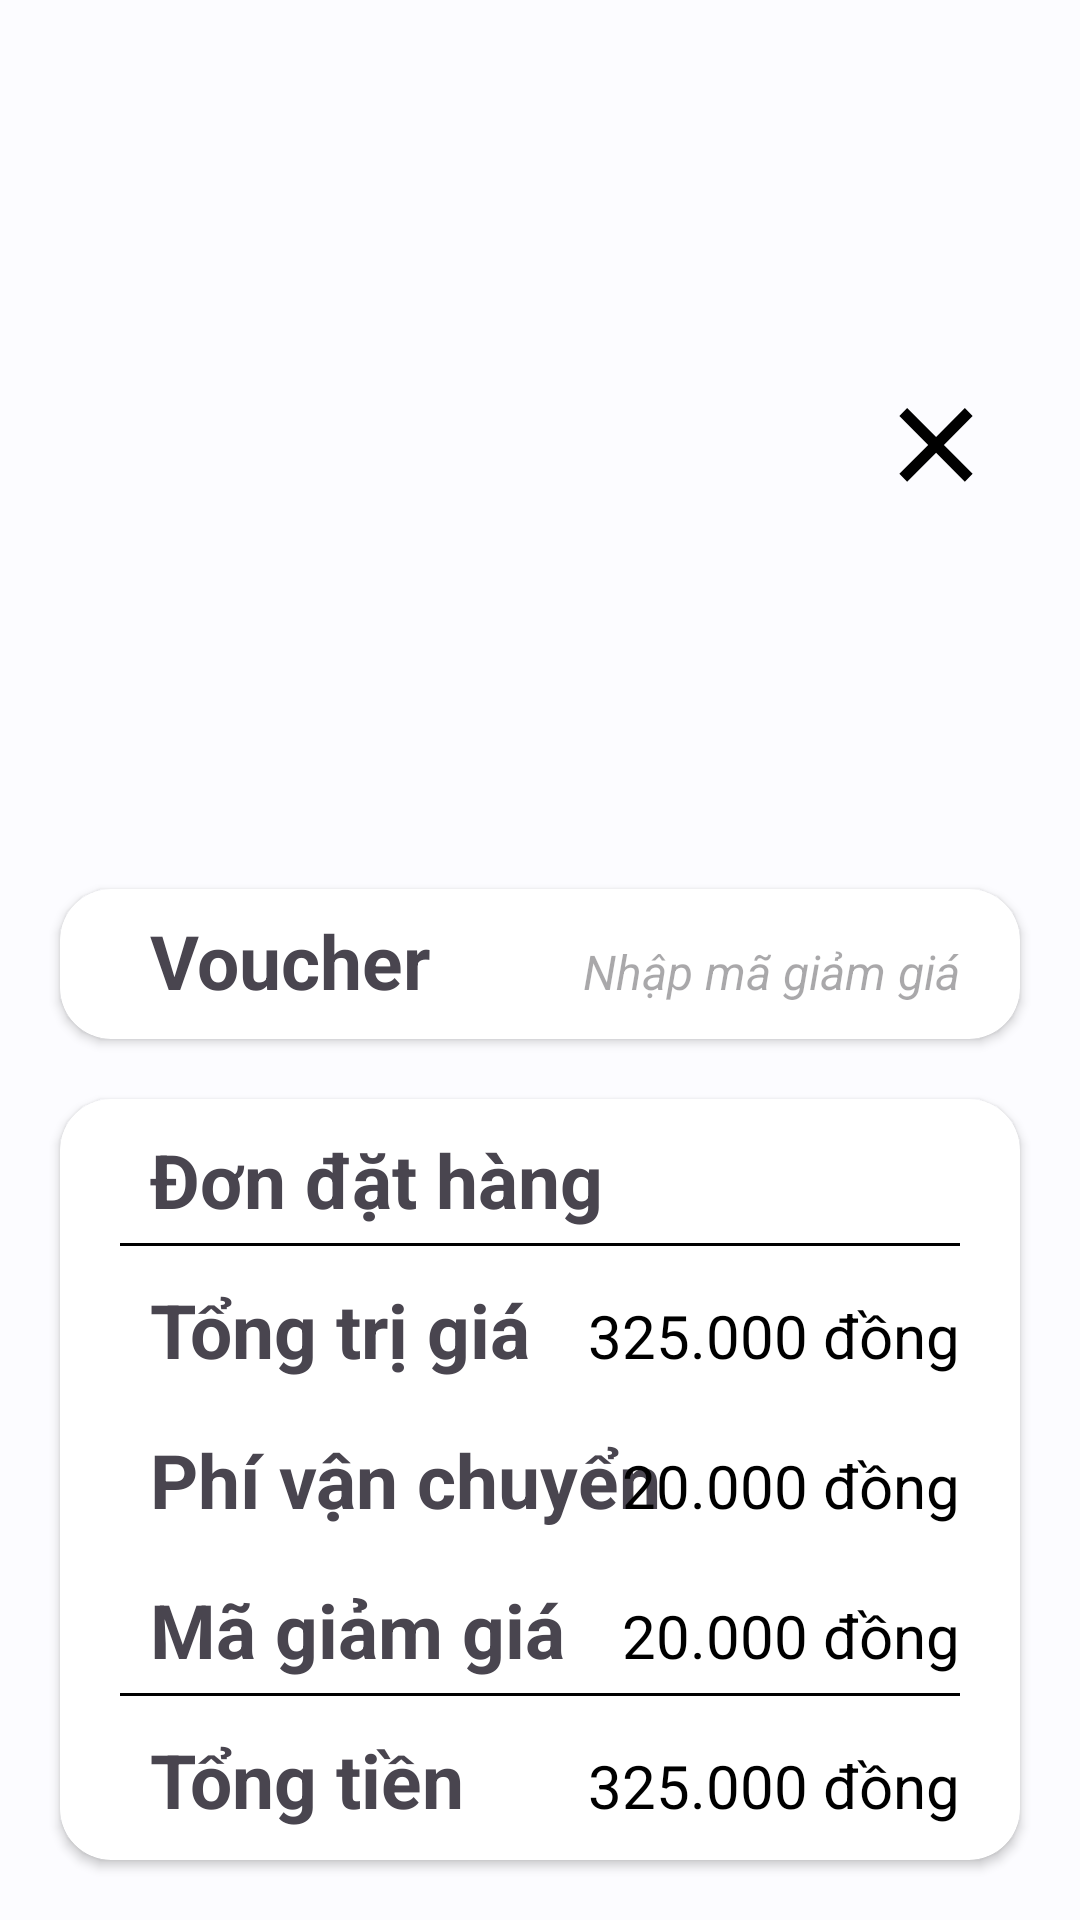

Locate icon controls on the screen. Image size 1080*1920, boxes as [left=x1, top=y1, right=x2, bottom=y2].
close: [left=899, top=408, right=973, bottom=482]
